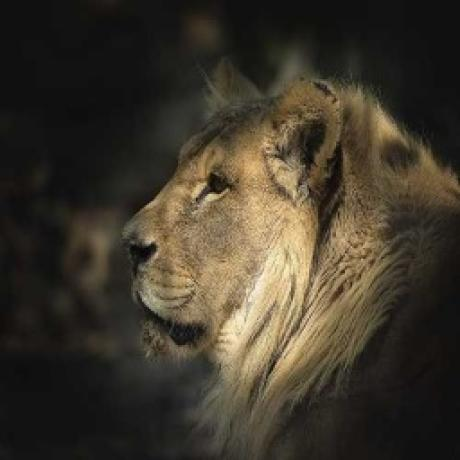Lion: (118, 72, 460, 460)
